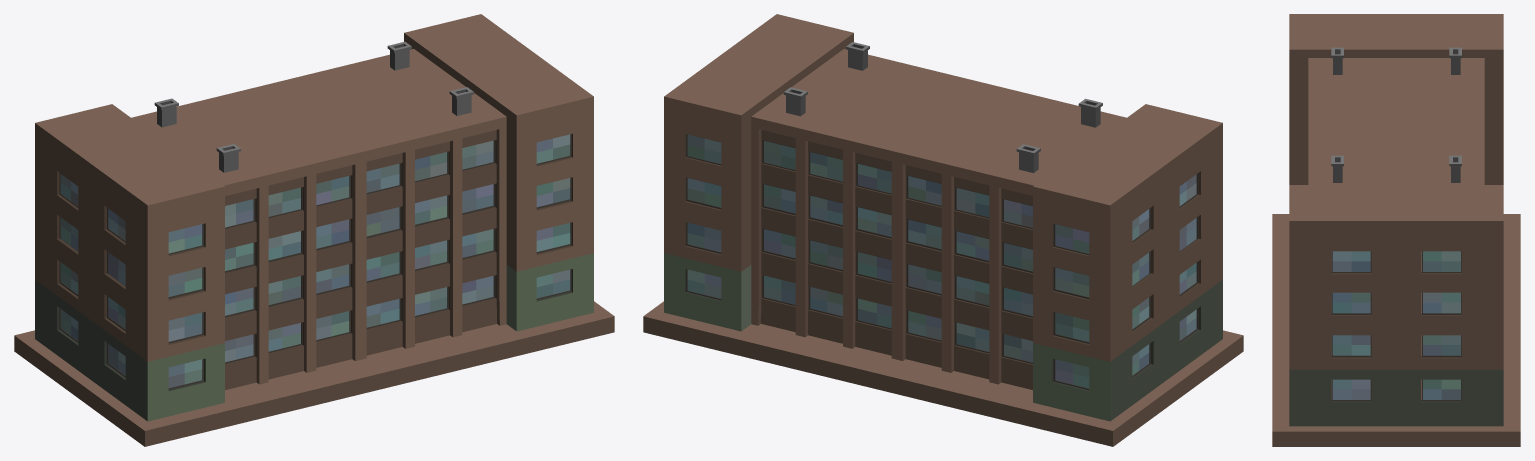
The picture shows the model from 3 angles, left to right: view 1: azimuth 30°, elevation 25°; view 2: azimuth 150°, elevation 25°; view 3: azimuth 270°, elevation 25°; orthographic projection. The views are drawn at different scales.
Visible parts, largest first — view 1: base.155; view 2: base.155; view 3: base.155.
Boxes of the visible parts, x1,y1,x2,y2 form: base.155: (14, 14, 614, 446); base.155: (643, 14, 1243, 446); base.155: (1272, 14, 1520, 446).
Size of the model in its own units: 0.5 by 0.2485 by 0.2407.
